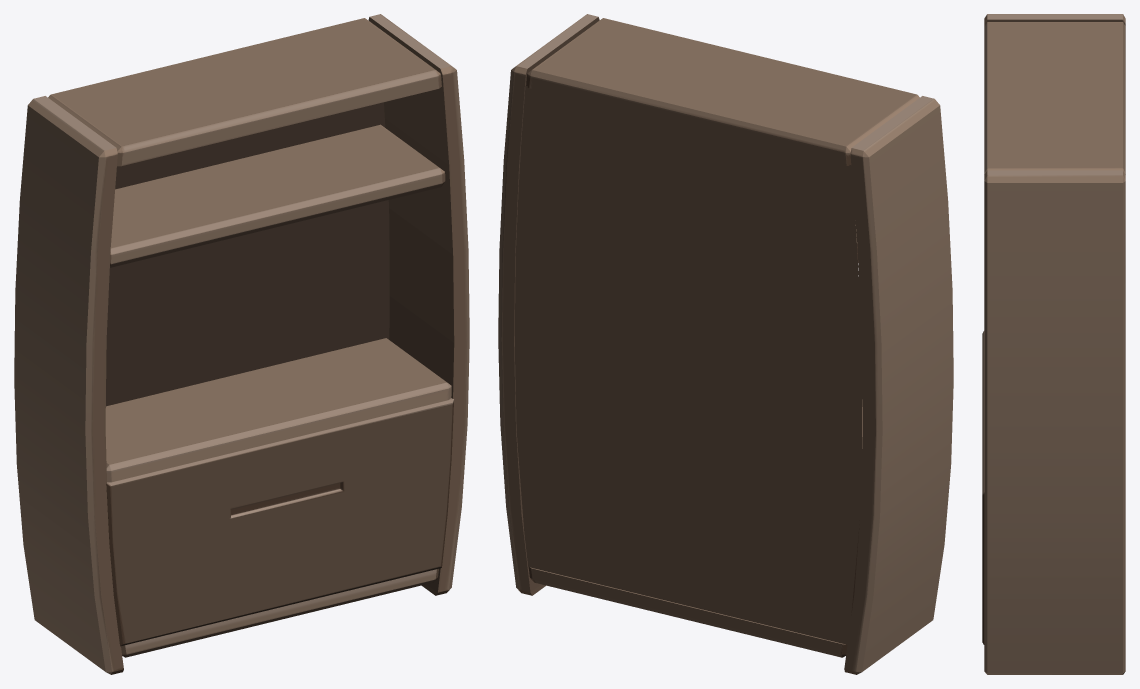
The model's file is housepack_shelf_1.FBX.
3 views of the same model, side by side, from view 1: azimuth 30°, elevation 25°; view 2: azimuth 150°, elevation 25°; view 3: azimuth 270°, elevation 25° (orthographic). The views are drawn at different scales.
Visible parts, largest first — view 1: housepack_shelf_1; view 2: housepack_shelf_1; view 3: housepack_shelf_1.
Part boxes in pixels (box(x1,y1,x2,y2)): housepack_shelf_1: box(14, 14, 469, 674); housepack_shelf_1: box(498, 14, 953, 674); housepack_shelf_1: box(982, 14, 1125, 674).
Size of the model in its own units: 95.81 by 125 by 32.48.
